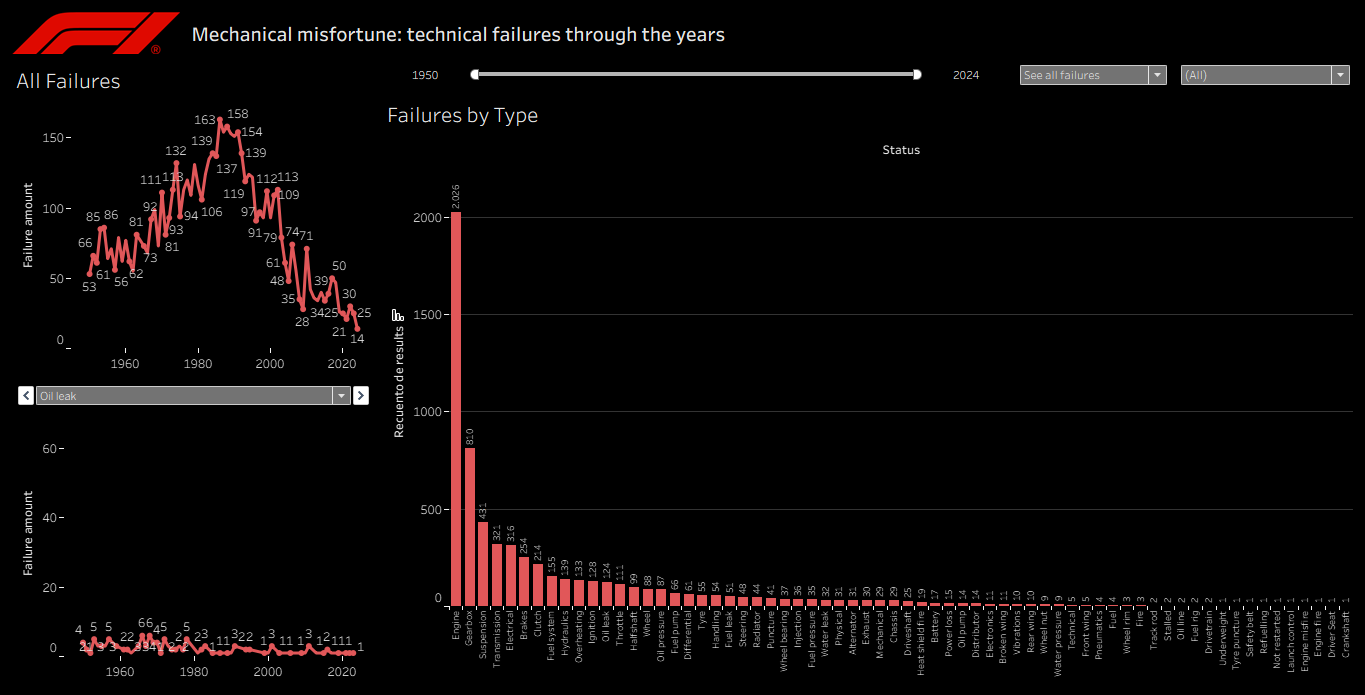

This screenshot's page, from the dashboard's own definition file:
{"tool":"tableau","page":{"name":"Mechanical failures (Absolute)","canvas":[1000,1000],"units":"permille","ordinal":2},"visuals":[{"type":"image","param":"D:/Repos/F1_Stats_Tableau/img/F1_Logo.png","box":[7,14.3,155.4,89.3]},{"type":"text","box":[162.4,14.3,830.6,89.3]},{"type":"worksheet","title":"All Failures (Absolute)","mark":"Line","rows":["results.csv_CF15E96811FA4CF089481939AB5E0824"],"cols":["Calculation_569142452756807681"],"box":[7,103.6,325.7,455.4]},{"type":"filter","title":"Mechanical problems by year","param":"[federated.1gciksz1by2j2j1de8jam11lnjzv].[none:Calculation_569142452756807681:qk","box":[332.7,103.6,357.9,60.7]},{"type":"parameter","param":"[Parameters].[statusId (status.csv) Parameter]","box":[690.6,103.6,141.3,60.7]},{"type":"filter","title":"Mechanical problems by year","param":"[federated.1gciksz1by2j2j1de8jam11lnjzv].[none:name (constructors.csv):nk]","box":[832,103.6,160.7,60.7]},{"type":"worksheet","title":"Mechanical problems by year","mark":"Bar","rows":["results.csv_CF15E96811FA4CF089481939AB5E0824"],"cols":["status"],"box":[332.7,164.3,659.9,821.4]},{"type":"currpage","title":"Selected Failure","box":[7,558.9,325.7,48.2]},{"type":"worksheet","title":"Selected Failure","mark":"Line","rows":["results.csv_CF15E96811FA4CF089481939AB5E0824"],"cols":["Calculation_569142452756807681"],"box":[7,607.1,325.7,378.6]}]}

Visuals, with their boxes on the dashboard's canvas, which has no fixed pixel size, in thousandths of its width and height (x1, y1, x2, y2). These are canvas units, not pixel positions in the 1365x695 screenshot, which may show the page scaled, cropped or inside an application window:
image: box=[7, 14, 162, 104]
text: box=[162, 14, 993, 104]
"All Failures (Absolute)" worksheet (Line marks): box=[7, 104, 333, 559]
"Mechanical problems by year" filter: box=[333, 104, 691, 164]
parameter: box=[691, 104, 832, 164]
"Mechanical problems by year" filter: box=[832, 104, 993, 164]
"Mechanical problems by year" worksheet (Bar marks): box=[333, 164, 993, 986]
"Selected Failure" currpage: box=[7, 559, 333, 607]
"Selected Failure" worksheet (Line marks): box=[7, 607, 333, 986]
